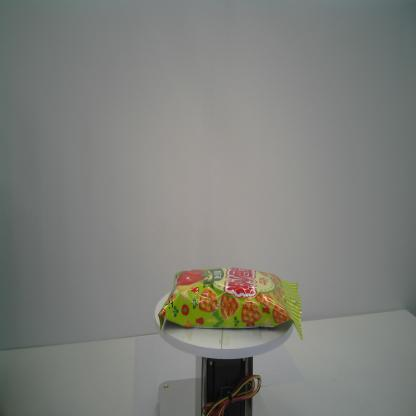Puffed Food: (157, 268, 305, 344)
